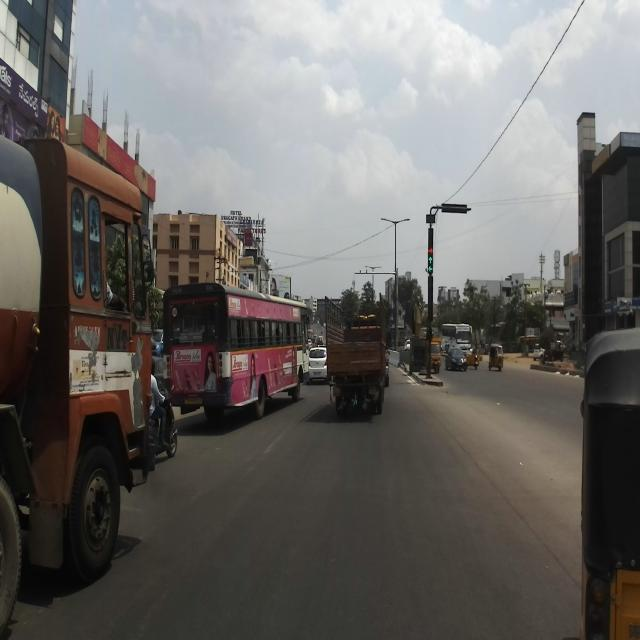autorickshaw: (578, 327, 640, 638)
bus: (161, 281, 309, 422)
truck: (0, 133, 155, 639), (323, 285, 388, 414)
